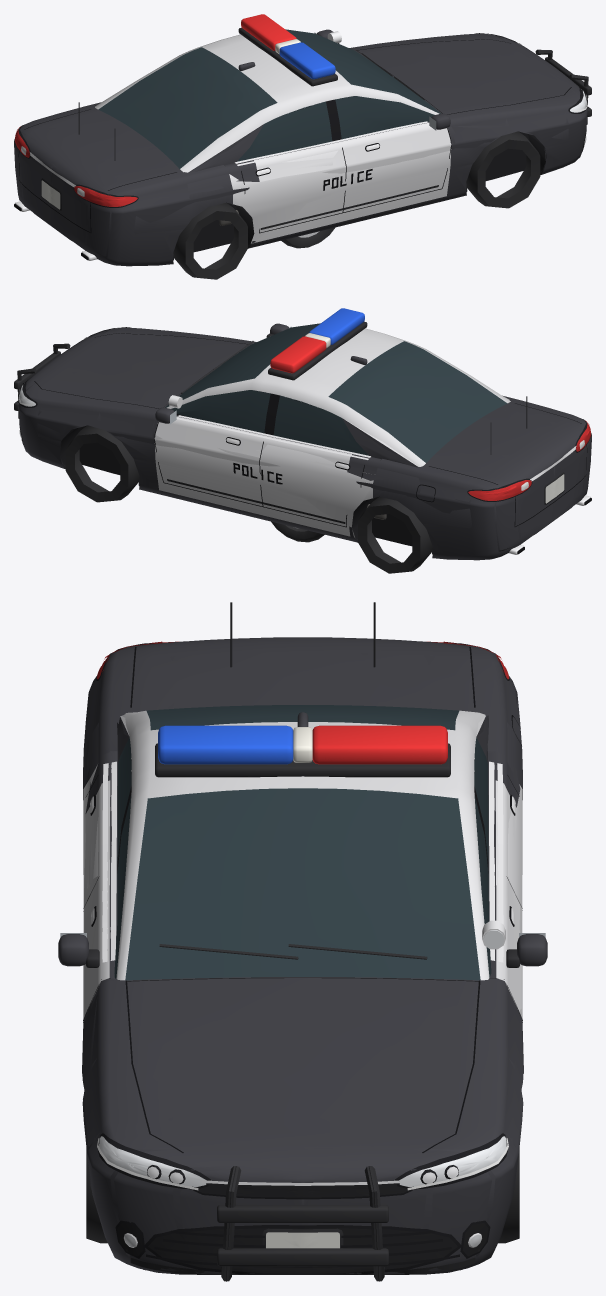
File: police.glb
The picture shows the model from 3 angles, top to bottom: view 1: azimuth 30°, elevation 25°; view 2: azimuth 150°, elevation 25°; view 3: azimuth 270°, elevation 25°; orthographic projection. The views are drawn at different scales.
Visible parts, largest first — view 1: police, police_lo, police_wf; view 2: police, police_lo, police_wf; view 3: police, police_lo.
Part boxes in pixels (<box>): police: <box>14,14,591,266</box>; police_lo: <box>14,25,587,279</box>; police_wf: <box>281,227,335,248</box>; police: <box>14,308,591,560</box>; police_lo: <box>18,318,591,573</box>; police_wf: <box>271,521,324,542</box>; police: <box>58,602,547,1281</box>; police_lo: <box>68,639,537,1281</box>.
Size of the model in its own units: 5.04 by 1.91 by 2.05.
